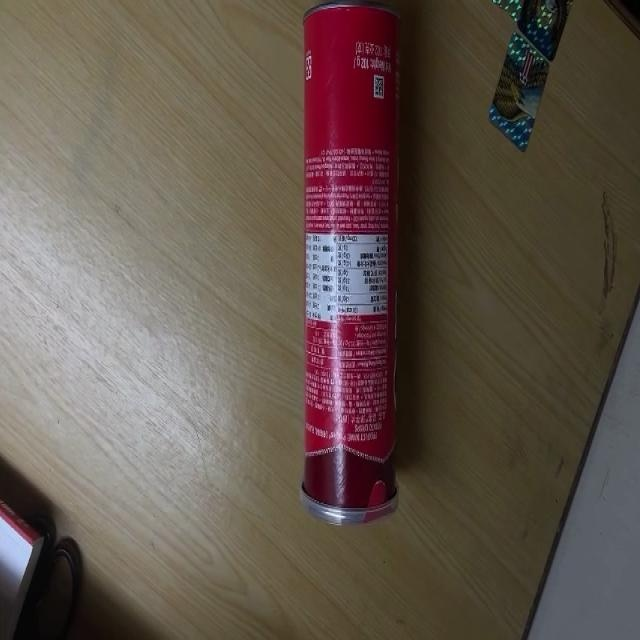Pringles: (303, 0, 402, 529)
